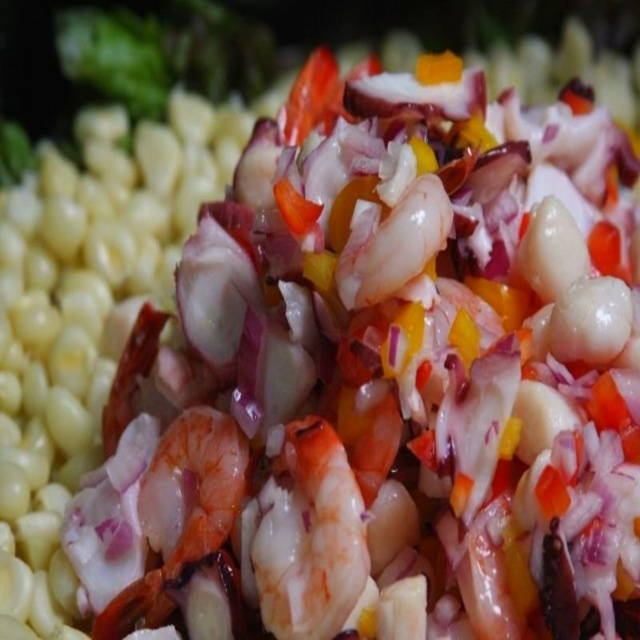Shrimp: (57, 45, 640, 640)
